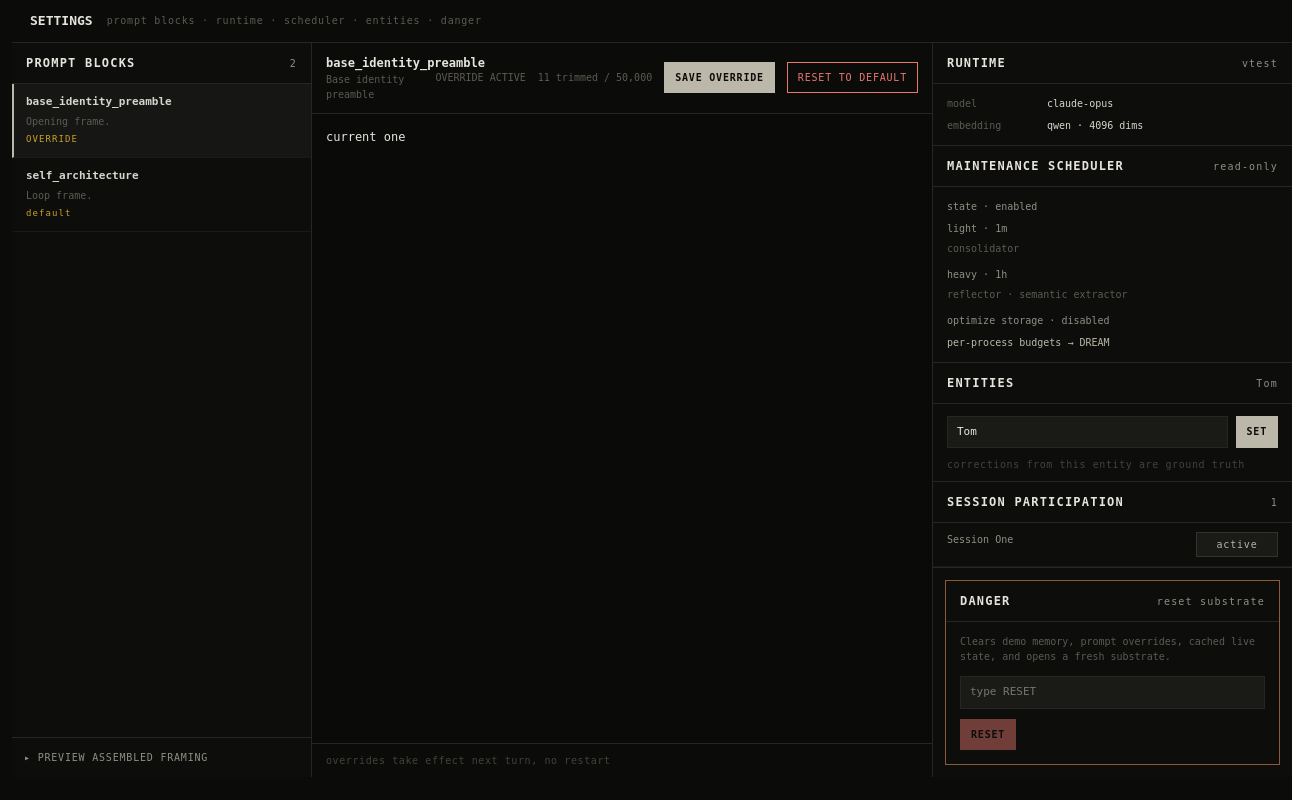
Test: Settings page › guards dirty drafts before switching prompt selection
The width and height of the screenshot is (1292, 800).
Replace the text in the text box showing "current one" with "dirty draft": (622, 428) [312, 114, 932, 744]
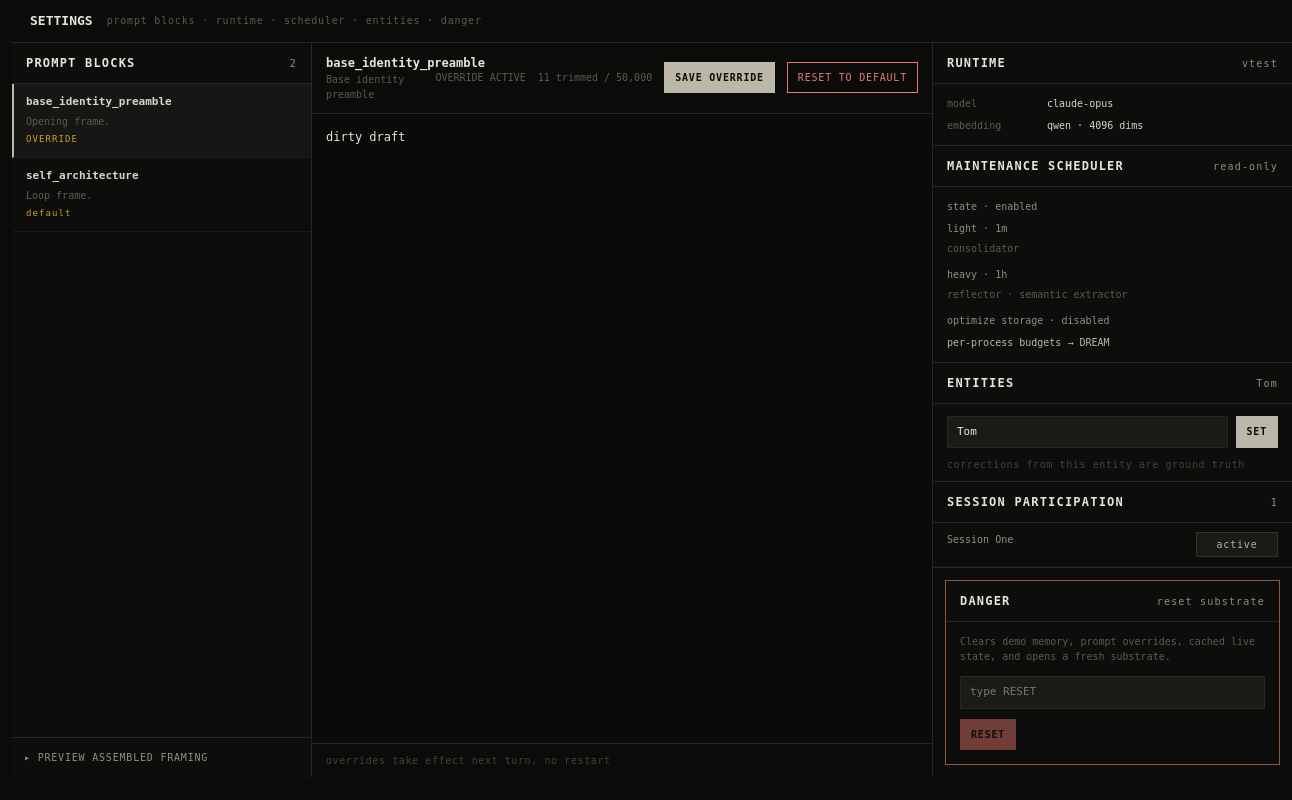
Click the text "self_architecture": (82, 176) [26, 168, 139, 184]
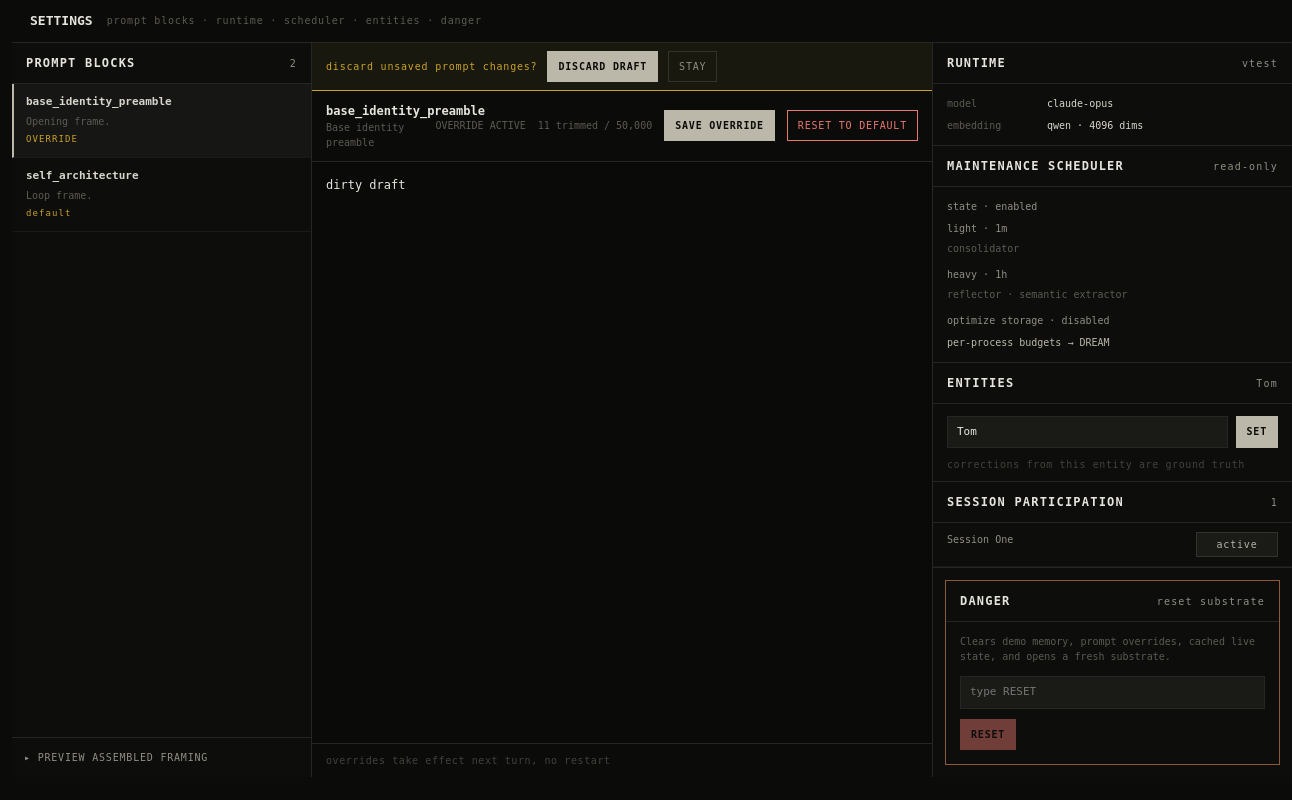
Expected: the text "discard unsaved prompt changes?" is shown, [326, 58, 537, 74]
Click the button "DISCARD DRAFT": (603, 66) [547, 50, 658, 82]
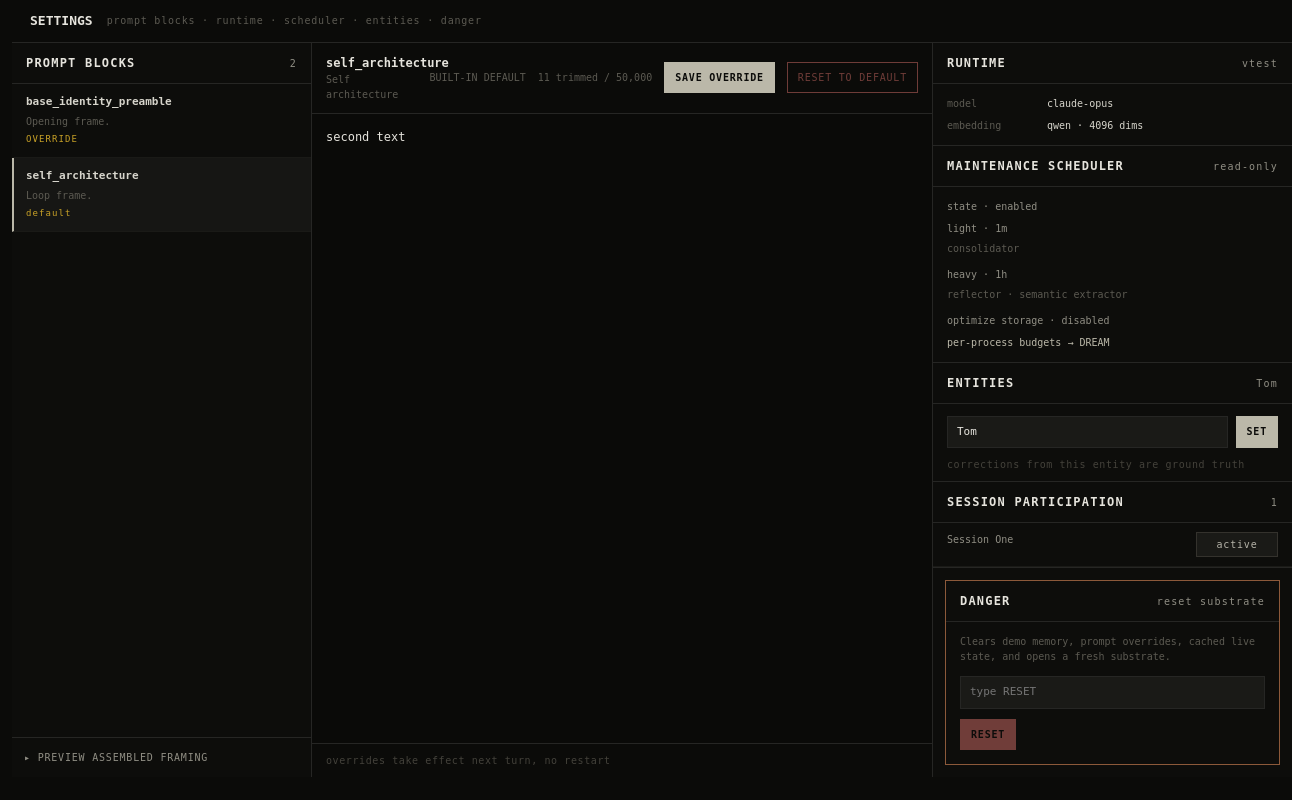
Expected: the text box showing "second text" holds "second text", [312, 114, 932, 744]
